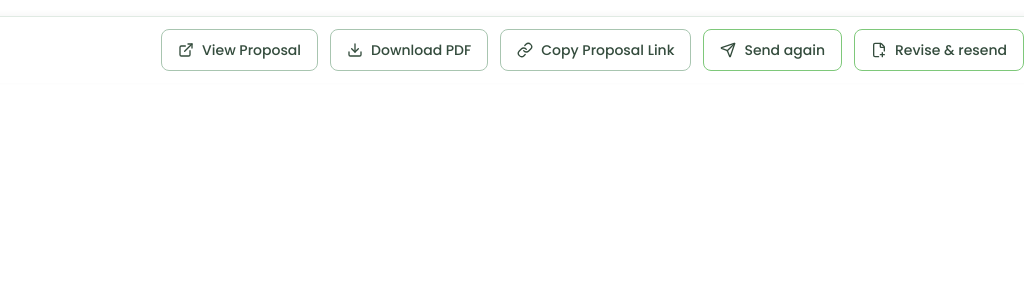
Test: Revise & resend — the discoverable path off an accepted quote › does not navigate when the fork returns no new id
The width and height of the screenshot is (1036, 296).
What coordinates should you click on to do the following:
click the button "Revise & resend"
I would click on:
 (939, 50)
Its box is [854,29,1024,71].
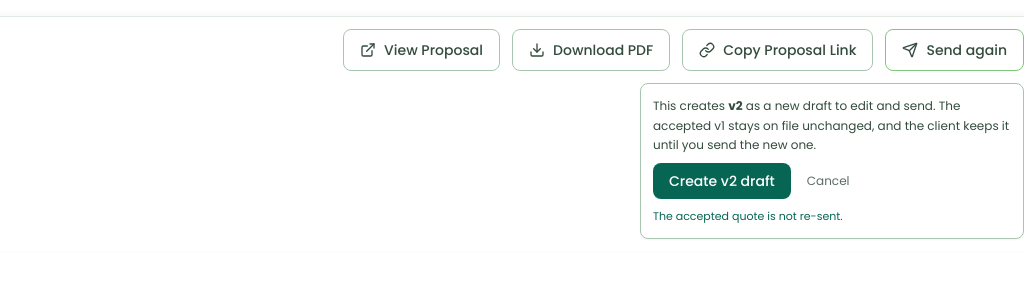
What coordinates should you click on to do the following:
click the button "Create v2 draft"
I would click on:
 (722, 180)
Its box is [653,162,791,198].
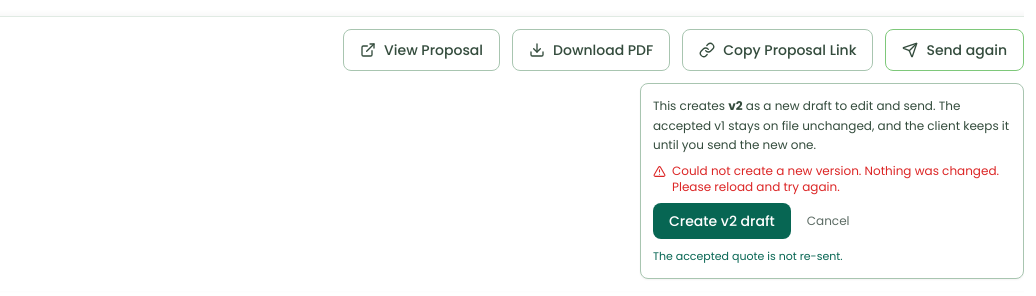
Now the text "Nothing was changed" is shown, box [672,162,999,194]
